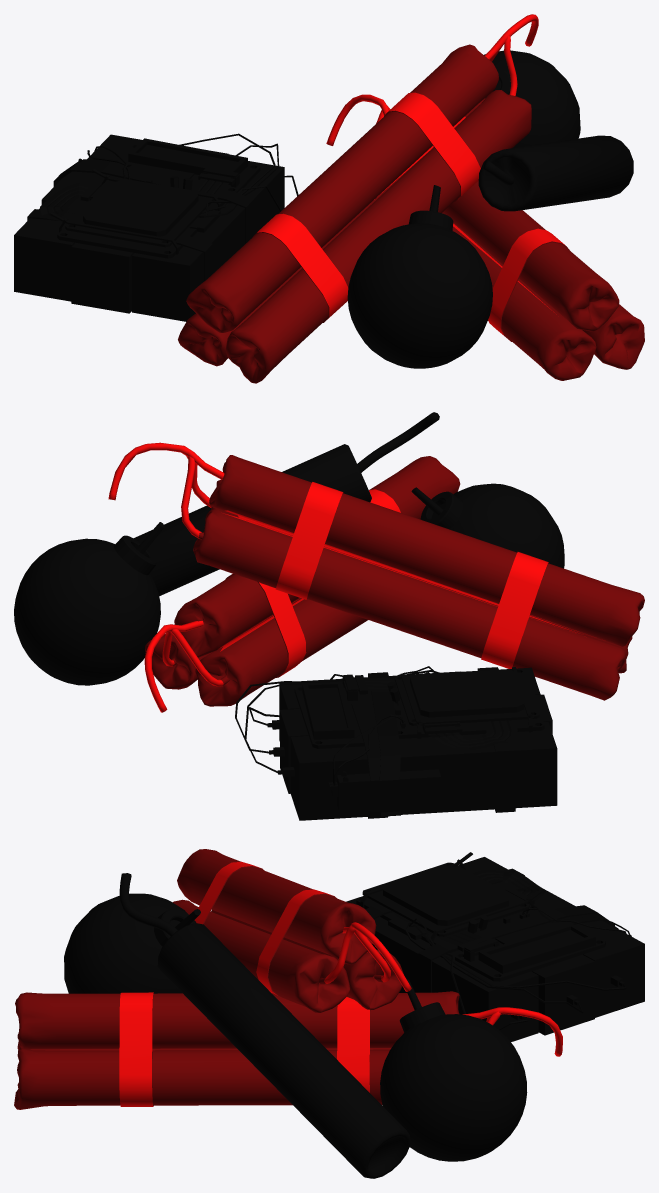
File: explosives.fbx
3 views of the same model, one above another, from view 1: azimuth 30°, elevation 25°; view 2: azimuth 150°, elevation 25°; view 3: azimuth 270°, elevation 25° (orthographic).
Parts seen in each view (by area): view 1: Cylinder.003; view 2: Cylinder.003; view 3: Cylinder.003.
Part boxes in pixels (x1=…): Cylinder.003: x1=14, y1=14, x2=644, y2=383; Cylinder.003: x1=14, y1=412, x2=644, y2=820; Cylinder.003: x1=14, y1=849, x2=644, y2=1178.
Bounding box in the file's own units: 10.36 × 3.69 × 9.92.
